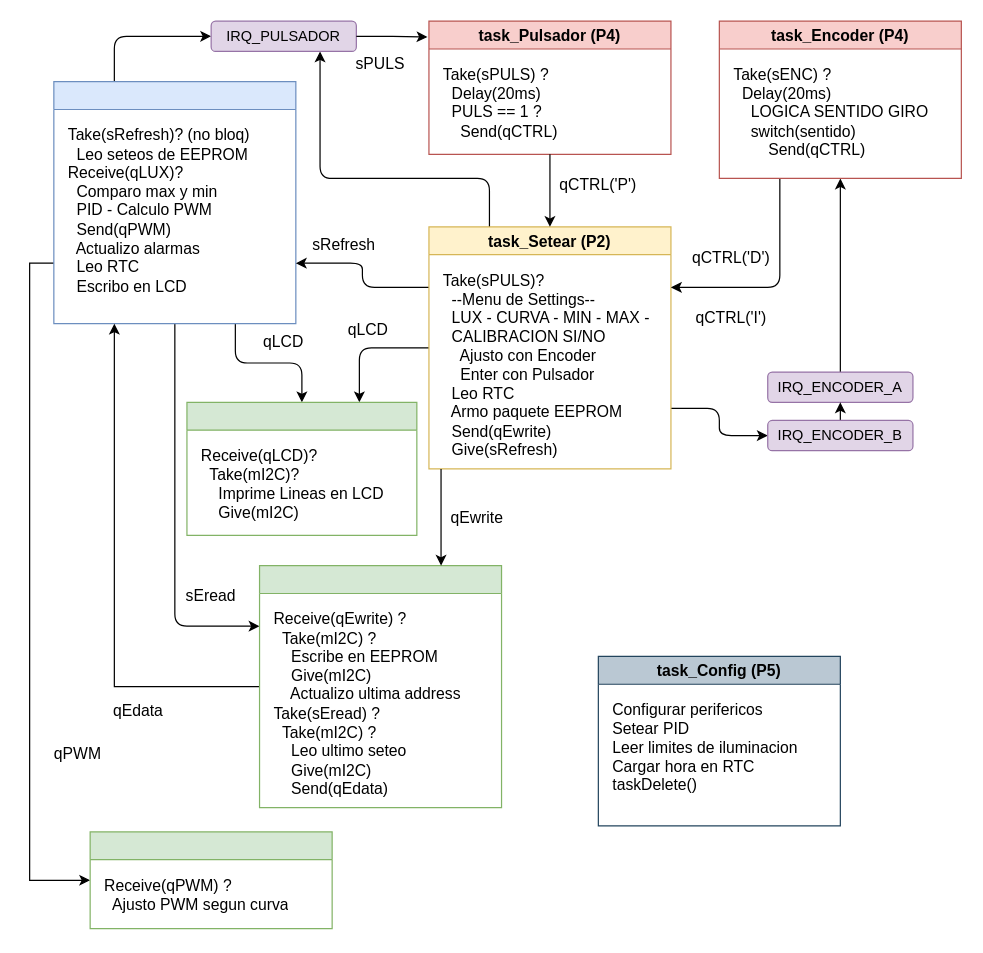
The diagram is 983 pixels wide and 953 high, and some of its shapes have lost their labels. The box of each missing label's shape, as (x1, y1, x2, y2) in pixels:
task_Control (P1): (53, 80, 296, 324)
task_EEPROM (P3): (258, 564, 502, 808)
task_LCD (P3): (186, 401, 417, 535)
task_PWM (P3): (89, 831, 332, 929)
